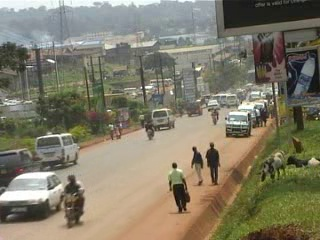Car: (0, 168, 64, 224), (0, 145, 48, 197), (204, 96, 225, 113)
Motorcycle: (60, 173, 88, 229), (140, 111, 157, 142), (208, 105, 220, 126)
